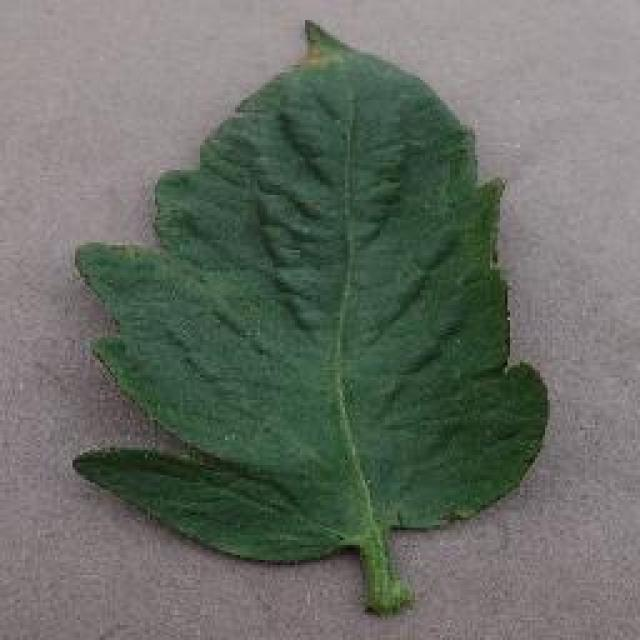Tomato___Bacterial_spot: (64, 23, 549, 613)
